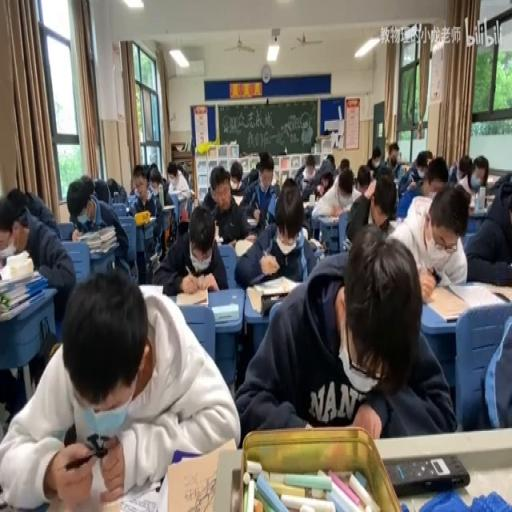calculator: (164, 441, 237, 510), (426, 280, 510, 322), (245, 278, 299, 312), (115, 478, 164, 510), (175, 287, 208, 306), (212, 302, 238, 324), (234, 236, 256, 256), (0, 242, 17, 262), (466, 204, 489, 218), (318, 213, 339, 225), (144, 283, 163, 296), (308, 235, 323, 250), (485, 175, 501, 188), (149, 249, 159, 266), (230, 195, 244, 205), (214, 223, 220, 242), (342, 238, 350, 252), (302, 199, 312, 209), (246, 218, 258, 226), (160, 204, 174, 210), (189, 189, 194, 198)
paper: (5, 266, 237, 508), (236, 224, 450, 440), (0, 188, 75, 330), (394, 182, 468, 296), (66, 174, 132, 282), (152, 205, 226, 296), (467, 306, 511, 429), (465, 173, 512, 286), (346, 170, 396, 244), (128, 164, 162, 263), (240, 150, 279, 228), (162, 160, 190, 230), (398, 149, 430, 199), (201, 162, 229, 213), (294, 152, 320, 198), (5, 188, 33, 222), (384, 141, 403, 176), (470, 155, 489, 189), (105, 176, 126, 202), (315, 169, 332, 199), (366, 145, 382, 176), (456, 155, 472, 182), (229, 161, 243, 189), (338, 174, 352, 200), (355, 165, 370, 189), (149, 174, 162, 194), (126, 192, 140, 210), (281, 175, 298, 189), (338, 156, 350, 174), (448, 161, 458, 182), (166, 168, 178, 185), (325, 154, 334, 172), (142, 164, 152, 180), (426, 150, 432, 164)
person: (386, 452, 470, 496), (493, 292, 510, 302)
